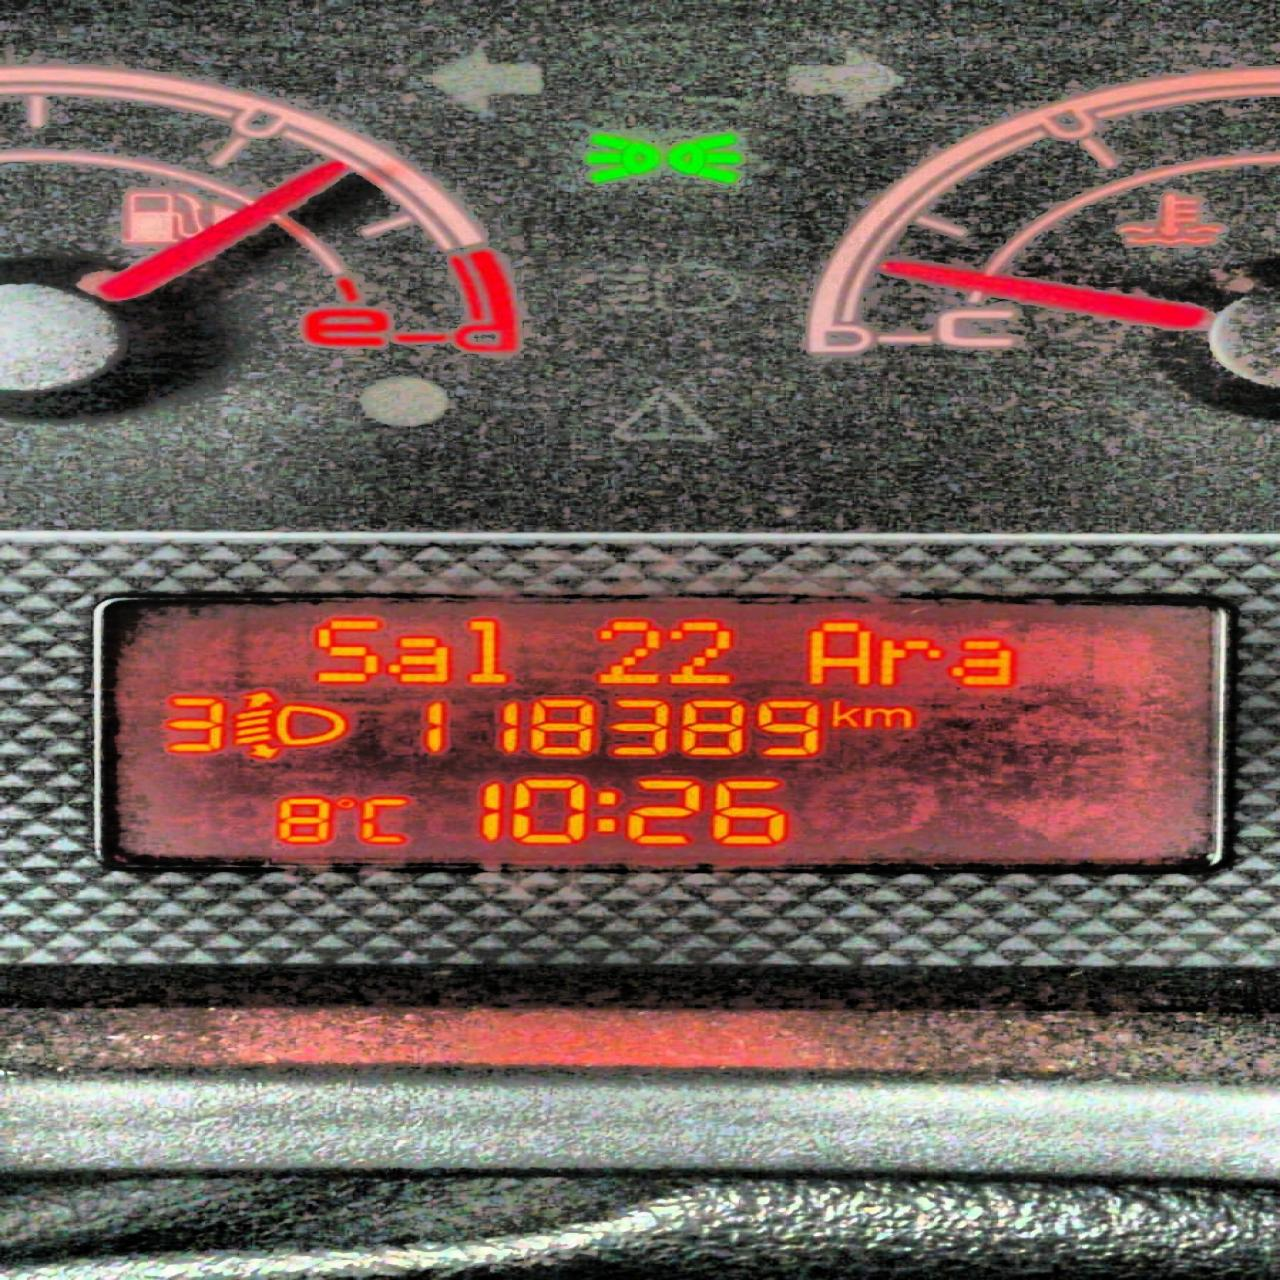0: (508, 775, 588, 847)
1: (416, 696, 459, 762), (476, 776, 504, 849), (495, 696, 519, 758)
2: (625, 775, 704, 849), (595, 612, 661, 686), (667, 617, 737, 682)
3: (161, 692, 229, 755), (608, 697, 672, 757)
6: (713, 772, 791, 850)
8: (676, 695, 749, 760), (529, 694, 597, 760), (272, 792, 329, 849)
9: (760, 692, 821, 761)
X: (802, 615, 878, 686), (301, 615, 380, 683), (462, 613, 523, 686), (386, 627, 456, 687), (949, 635, 1016, 692), (881, 634, 946, 692), (356, 792, 418, 847), (863, 701, 922, 736), (588, 783, 618, 840), (828, 693, 859, 733)
odometer: (81, 584, 1247, 883)
